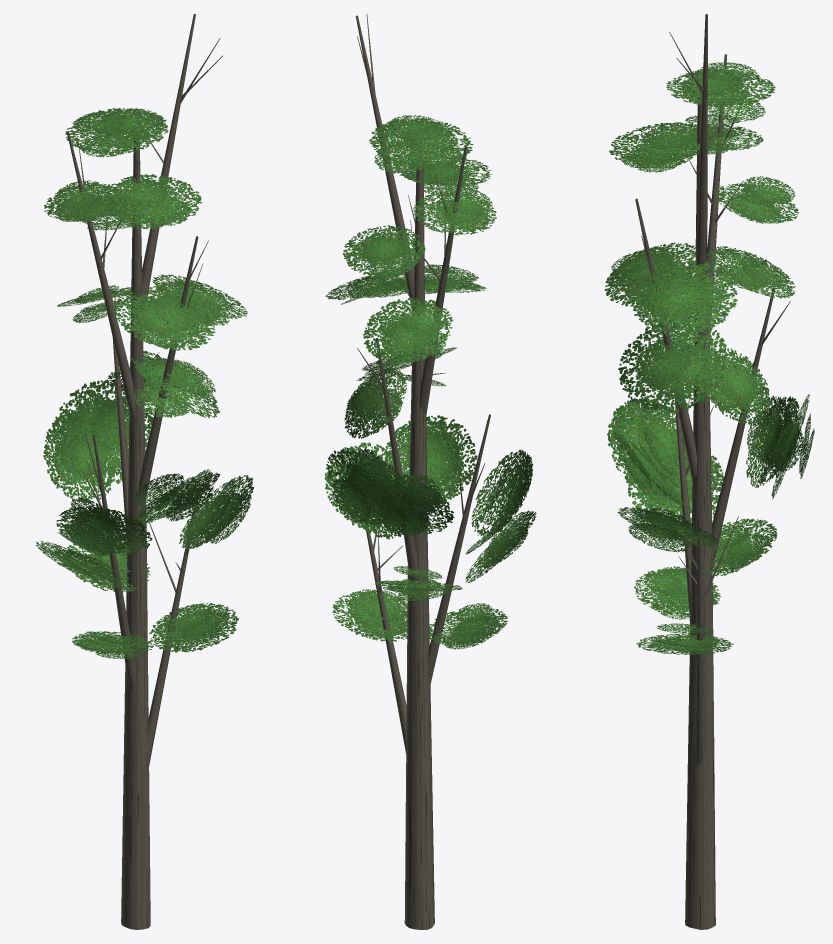
Rendered from Poplar_LOD0.fbx.
3 views of the same model, side by side, from view 1: azimuth 30°, elevation 25°; view 2: azimuth 150°, elevation 25°; view 3: azimuth 270°, elevation 25° (orthographic). The views are drawn at different scales.
Parts seen in each view (by area): view 1: Poplar_LOD0; view 2: Poplar_LOD0; view 3: Poplar_LOD0.
Boxes of the visible parts, box(x1,y1,x2,y2) form: Poplar_LOD0: box(35, 14, 253, 929); Poplar_LOD0: box(324, 14, 536, 929); Poplar_LOD0: box(604, 14, 814, 929).
Size of the model in its own units: 6.07 by 23.16 by 5.25.
1 material, 1 textured.
